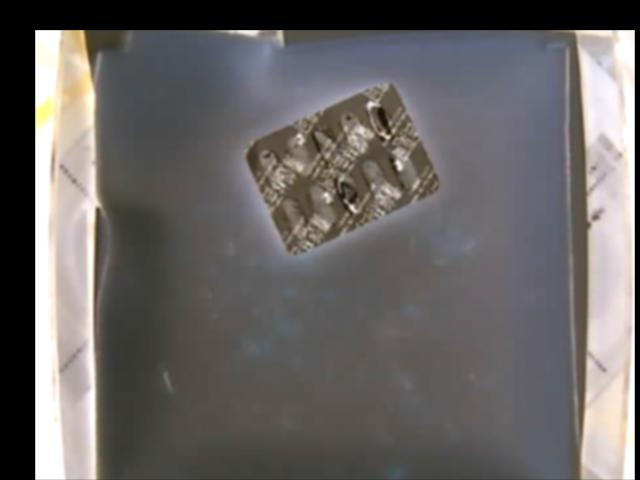Medicine: (245, 80, 441, 254)
